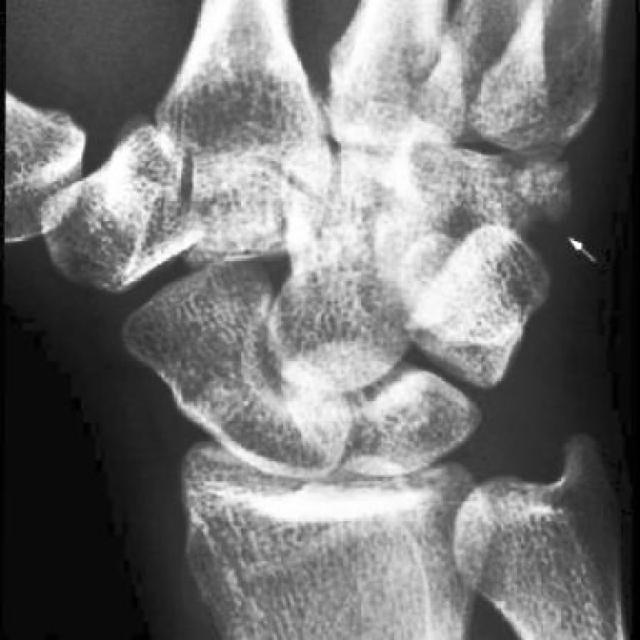Fracture: (491, 148, 558, 224)
